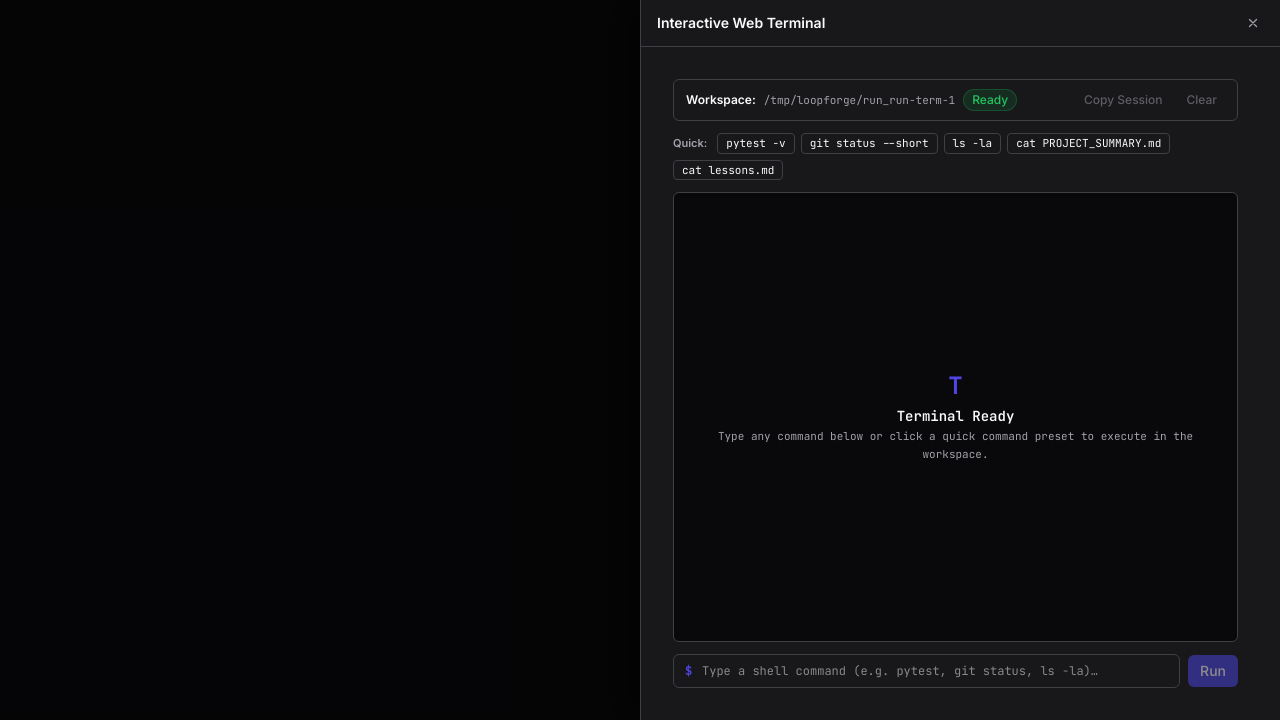
TerminalPanel › executes command and renders stdout
Expected: the text "Ready" is shown, [963,89,1017,111]
Type "pytest -v" into the field with placeholder "Type a shell command (e.g. pytest, git status, ls -la)…" at x=927, y=671, box [673,654,1180,688]
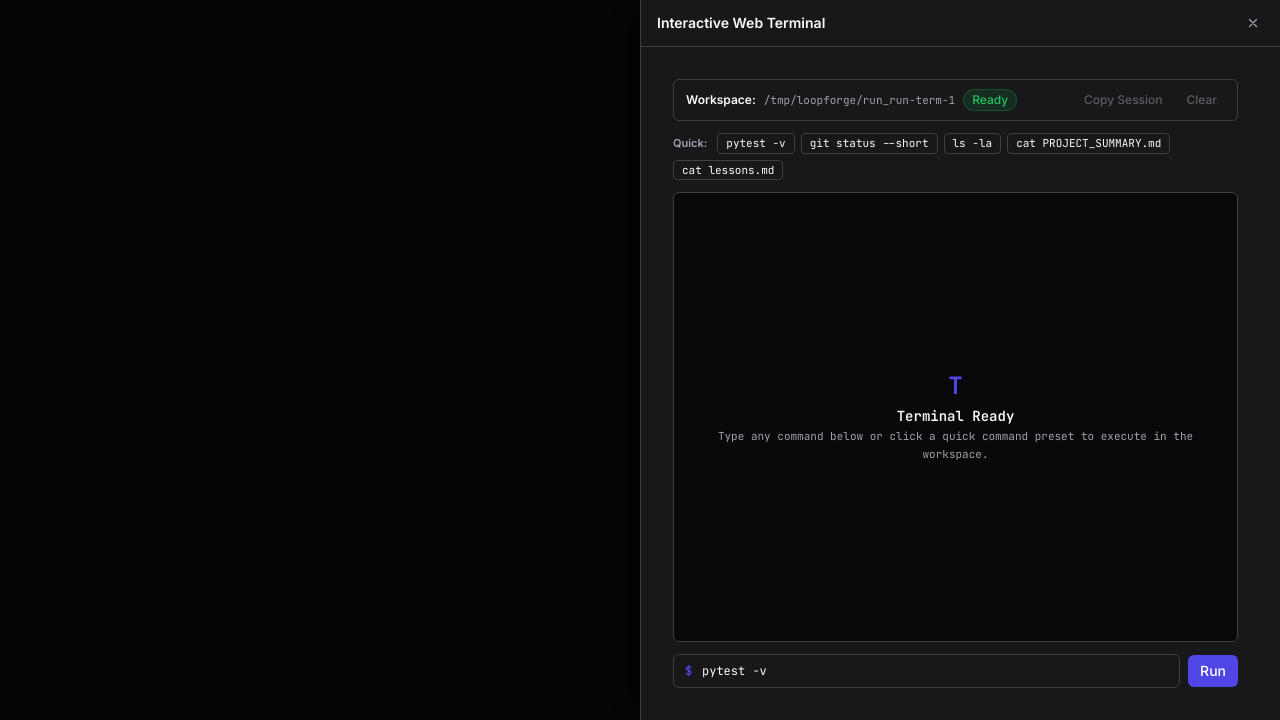
Click the button "Run" at x=1213, y=671, box [1188,655,1238,687]
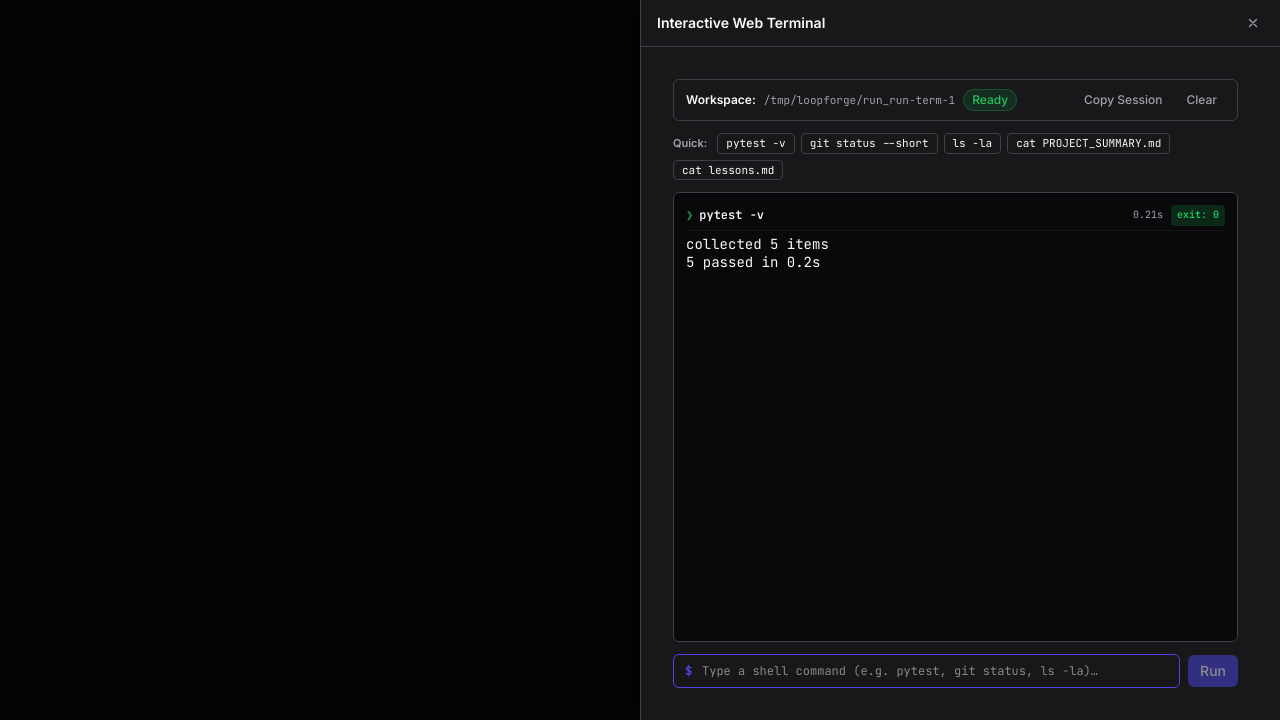
Expected: the text "collected 5 items 5 passed in 0.2s" is shown, [686,235,829,271]
Expected: the text "exit: 0" is shown, [1171,205,1225,226]
